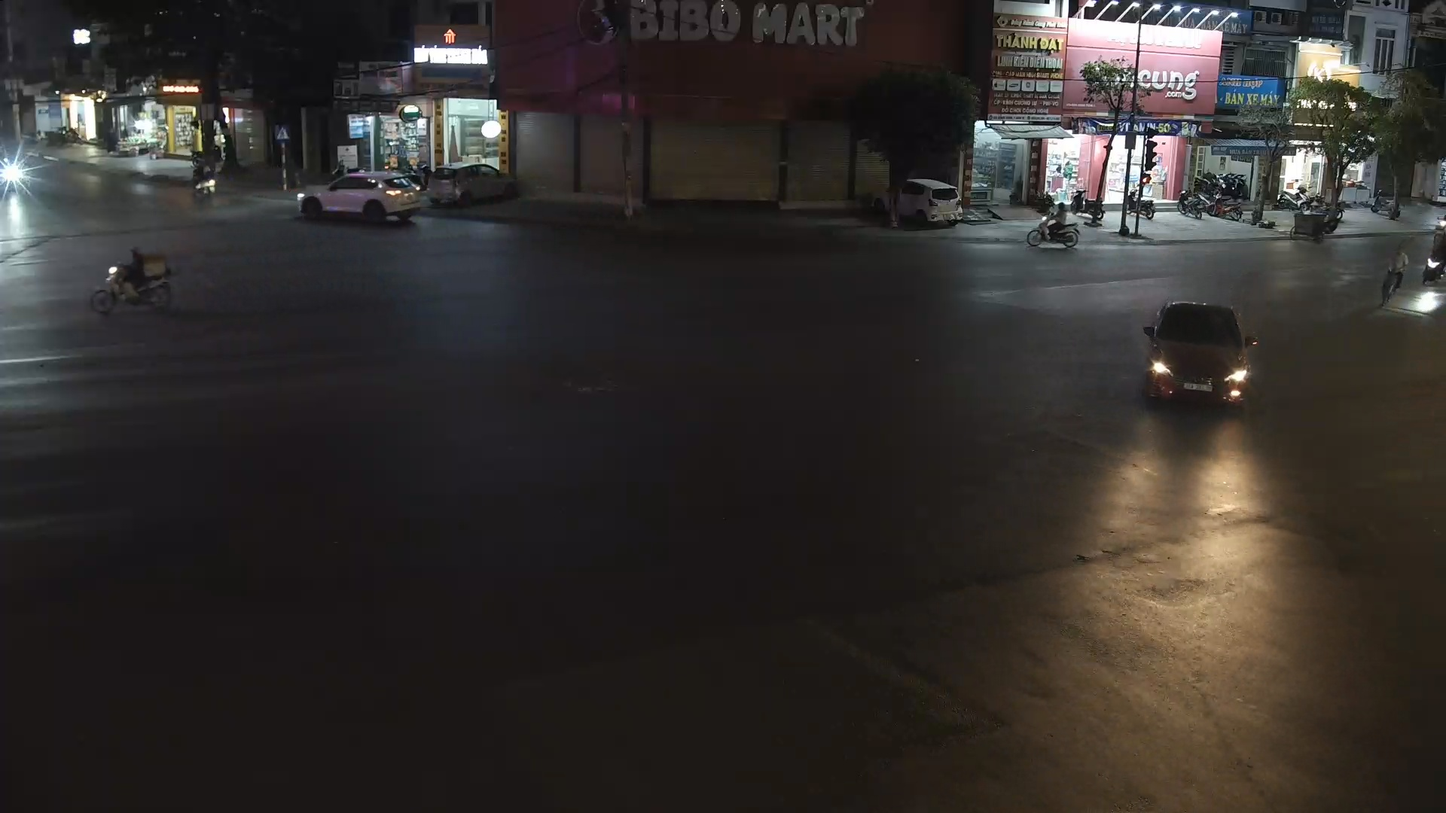car: (1140, 299, 1260, 412), (291, 169, 424, 229)
motorbike: (89, 243, 177, 317), (1025, 194, 1082, 250), (1380, 244, 1408, 302), (1421, 237, 1445, 287)
